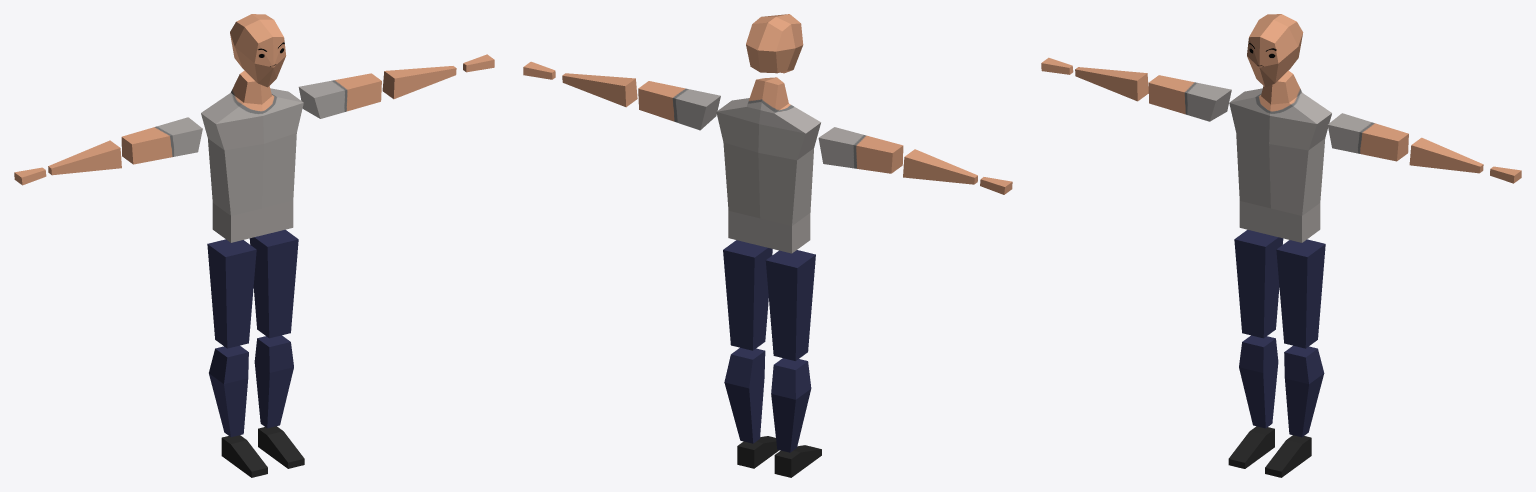
Rendered from SchlackerMan.fbx.
3 views of the same model, side by side, from view 1: azimuth 30°, elevation 25°; view 2: azimuth 150°, elevation 25°; view 3: azimuth 330°, elevation 25° (orthographic).
Visible parts, largest first — view 1: Torso, RightHip, LeftHip, Head, LeftKnee, RightKnee, RightShoulder, LeftShoulder, LeftElbow, RightElbow, RightFoot, LeftFoot; view 2: Torso, RightHip, LeftHip, LeftKnee, RightKnee, Head, RightShoulder, LeftShoulder, LeftElbow, RightElbow, RightFoot, LeftFoot; view 3: Torso, LeftHip, RightHip, Head, RightKnee, LeftKnee, RightShoulder, LeftShoulder, RightElbow, LeftElbow, LeftFoot, RightFoot.
Boxes of the visible parts, bbox=[...] form: Torso: bbox=[201, 70, 303, 242]; RightHip: bbox=[207, 239, 256, 348]; LeftHip: bbox=[249, 229, 298, 338]; Head: bbox=[230, 14, 286, 87]; LeftKnee: bbox=[254, 335, 293, 428]; RightKnee: bbox=[209, 345, 248, 437]; RightShoulder: bbox=[121, 117, 202, 164]; LeftShoulder: bbox=[298, 73, 381, 118]; LeftElbow: bbox=[382, 66, 456, 99]; RightElbow: bbox=[48, 140, 121, 175]; RightFoot: bbox=[221, 435, 267, 477]; LeftFoot: bbox=[258, 426, 304, 468]; Torso: bbox=[716, 77, 820, 253]; RightHip: bbox=[765, 250, 815, 360]; LeftHip: bbox=[723, 240, 772, 350]; LeftKnee: bbox=[724, 347, 765, 443]; RightKnee: bbox=[771, 358, 811, 452]; Head: bbox=[746, 14, 803, 73]; RightShoulder: bbox=[818, 127, 903, 173]; LeftShoulder: bbox=[638, 81, 720, 130]; LeftElbow: bbox=[562, 73, 637, 107]; RightElbow: bbox=[903, 149, 977, 184]; RightFoot: bbox=[774, 445, 821, 477]; LeftFoot: bbox=[737, 436, 779, 468]; Torso: bbox=[1229, 70, 1331, 242]; LeftHip: bbox=[1276, 239, 1325, 348]; RightHip: bbox=[1234, 229, 1283, 338]; Head: bbox=[1247, 14, 1303, 87]; RightKnee: bbox=[1239, 335, 1278, 428]; LeftKnee: bbox=[1284, 345, 1324, 437]; RightShoulder: bbox=[1148, 75, 1231, 121]; LeftShoulder: bbox=[1327, 113, 1408, 161]; RightElbow: bbox=[1075, 67, 1148, 101]; LeftElbow: bbox=[1409, 137, 1483, 173]; LeftFoot: bbox=[1265, 435, 1311, 477]; RightFoot: bbox=[1228, 426, 1274, 468].
Size of the model in its own units: 15 by 13.27 by 2.02.
